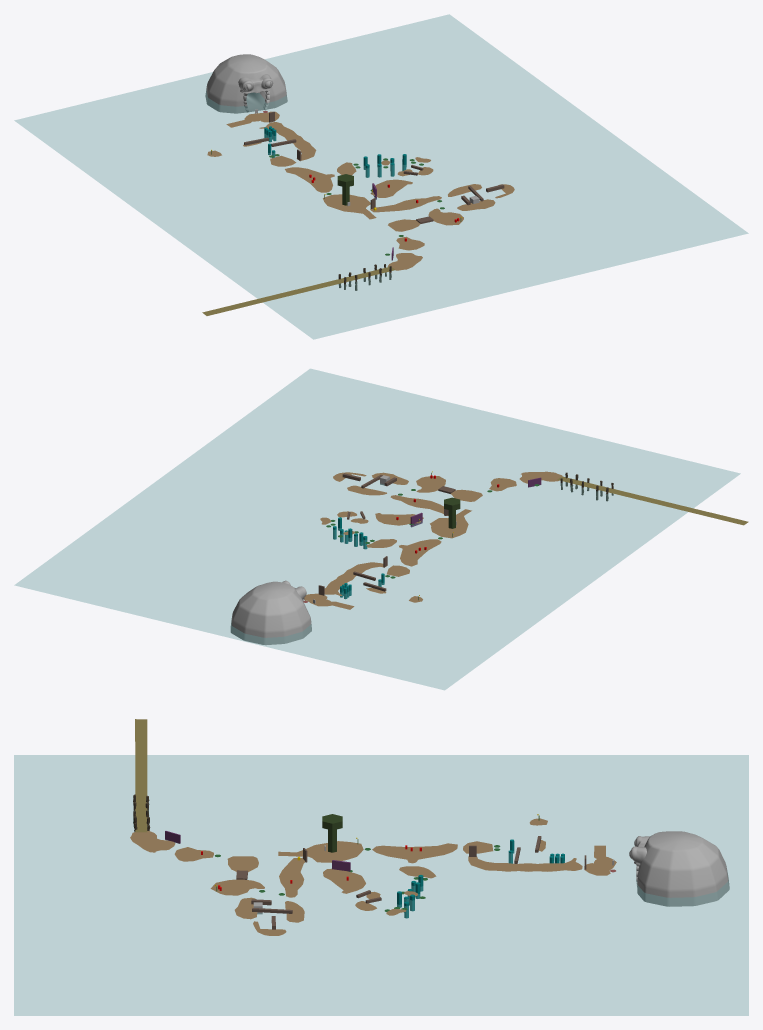
Rendered from blocking_level_2_waterpath_v5.fbx.
3 views of the same model, one above another, from view 1: azimuth 30°, elevation 25°; view 2: azimuth 150°, elevation 25°; view 3: azimuth 270°, elevation 25° (orthographic). The views are drawn at different scales.
Parts seen in each view (by area): view 1: water, big_rock_lp, path_bridge1, island_18, island_14, island_19; view 2: water, big_rock_lp, path_bridge1, island_18, island_14, island_19; view 3: water, big_rock_lp, path_bridge1, island_19, island_18, island_14, island_15, island_10, island_4, island_1, willow.
Boxes of the visible parts, bbox=[...] form: water: bbox=[14, 14, 748, 339]; big_rock_lp: bbox=[205, 54, 287, 113]; path_bridge1: bbox=[202, 267, 394, 315]; island_18: bbox=[323, 194, 376, 219]; island_14: bbox=[285, 167, 334, 192]; island_19: bbox=[259, 122, 316, 160]; water: bbox=[14, 369, 740, 690]; big_rock_lp: bbox=[230, 581, 311, 644]; path_bridge1: bbox=[557, 476, 748, 525]; island_18: bbox=[430, 509, 471, 538]; island_14: bbox=[399, 539, 441, 566]; island_19: bbox=[324, 562, 387, 595]; water: bbox=[14, 755, 748, 1015]; big_rock_lp: bbox=[637, 831, 729, 906]; path_bridge1: bbox=[135, 719, 147, 832]; island_19: bbox=[468, 856, 582, 871]; island_18: bbox=[278, 841, 363, 862]; island_14: bbox=[372, 843, 457, 863]; island_15: bbox=[279, 857, 305, 897]; island_10: bbox=[323, 868, 365, 893]; island_4: bbox=[210, 879, 264, 895]; island_1: bbox=[130, 831, 175, 852]; willow: bbox=[322, 814, 342, 852].
Bounding box in the file's own units: 92.32 × 7.74 × 97.19.
